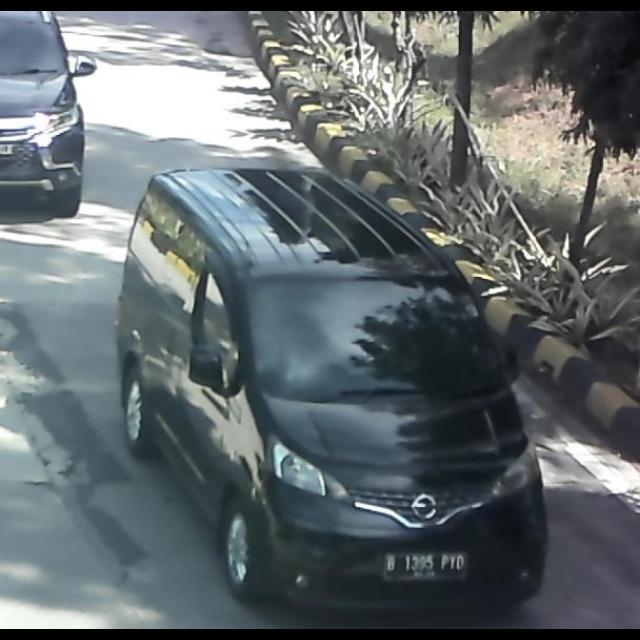plate: (382, 550, 474, 584)
